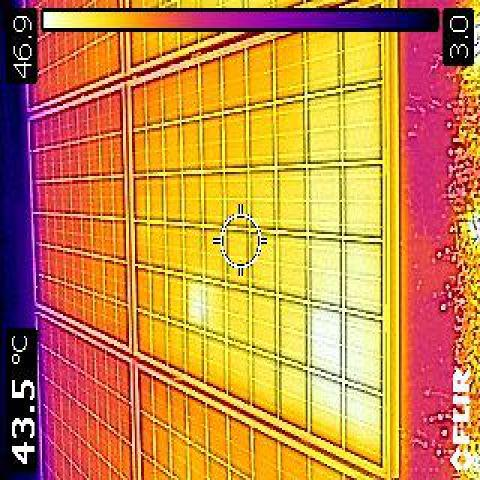fault: (309, 250, 380, 374), (185, 280, 202, 320)
